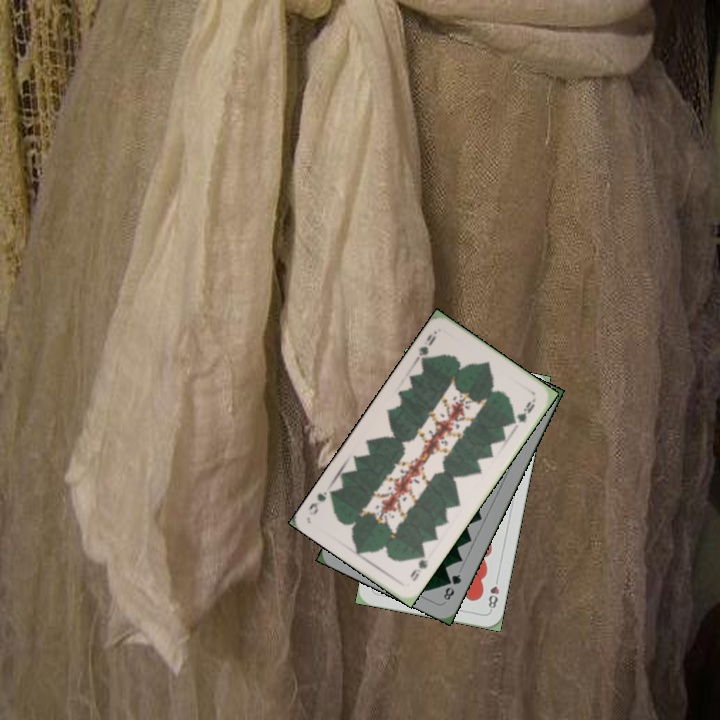G8: (439, 570, 464, 603)
G9: (411, 326, 440, 367), (406, 548, 431, 584)
H8: (484, 573, 502, 613)
